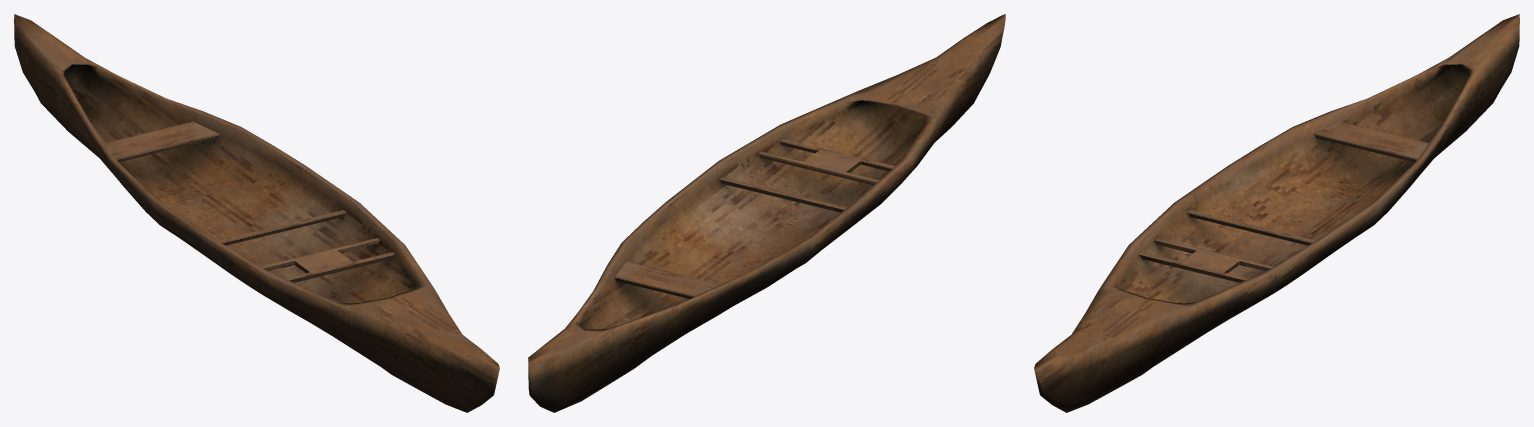
File: boat.gltf
3 views of the same model, side by side, from view 1: azimuth 30°, elevation 25°; view 2: azimuth 150°, elevation 25°; view 3: azimuth 330°, elevation 25° (orthographic).
Parts seen in each view (by area): view 1: Cube.001; view 2: Cube.001; view 3: Cube.001.
Part boxes in pixels (box(x1,y1,x2,y2)): Cube.001: box(14, 14, 499, 412); Cube.001: box(528, 14, 1005, 412); Cube.001: box(1034, 14, 1519, 412).
Size of the model in its own units: 1.87 by 1 by 10.41.
1 material, 1 textured.
